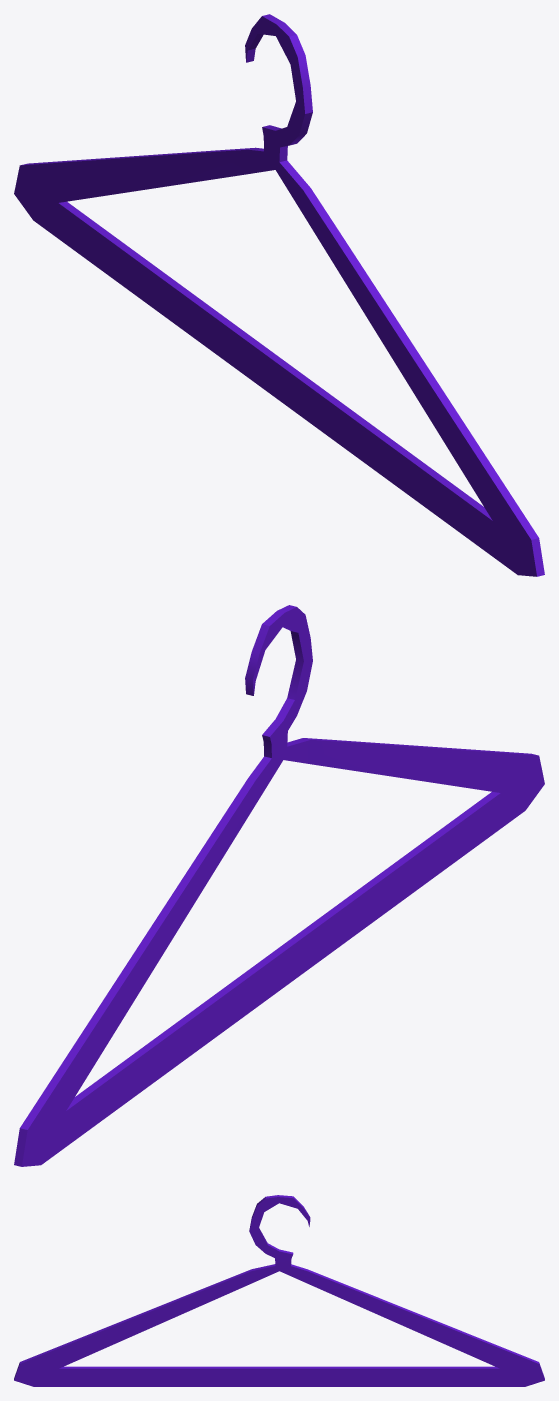
Rendered from Hanger_F.FBX.
3 renders of one model, top to bottom at view 1: azimuth 30°, elevation 25°; view 2: azimuth 150°, elevation 25°; view 3: azimuth 270°, elevation 25°, orthographic. The views are drawn at different scales.
Visible parts, largest first — view 1: Hanger; view 2: Hanger; view 3: Hanger.
Part boxes in pixels (box(x1,y1,x2,y2)): Hanger: box(14, 14, 544, 576); Hanger: box(14, 605, 544, 1166); Hanger: box(14, 1195, 544, 1386).
Size of the model in its own units: 1.01 by 45.57 by 115.
